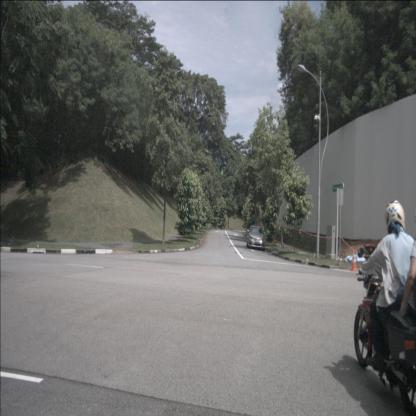cone: (350, 249, 358, 271), (272, 237, 275, 246)
